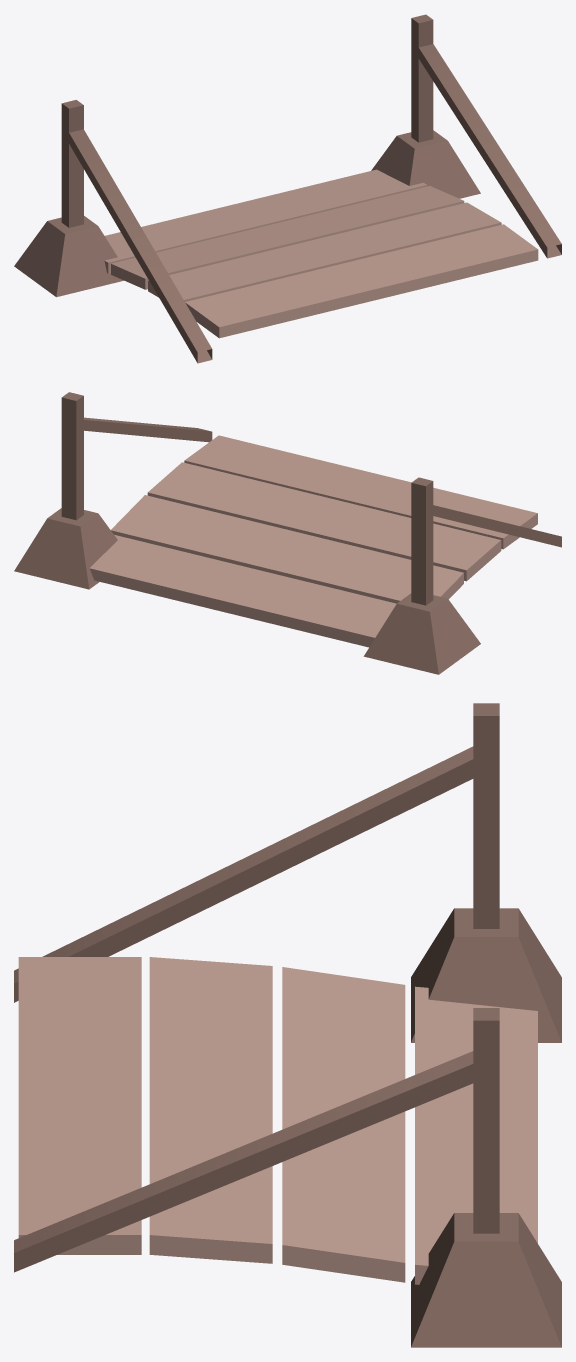
File: Puente-roto.fbx
The picture shows the model from 3 angles, top to bottom: view 1: azimuth 30°, elevation 25°; view 2: azimuth 150°, elevation 25°; view 3: azimuth 270°, elevation 25°; orthographic projection. The views are drawn at different scales.
Parts seen in each view (by area): view 1: pCube9, pCube15, pCube16; view 2: pCube9, pCube15, pCube16; view 3: pCube9, pCube16, pCube15.
Boxes of the visible parts, box(x1,y1,x2,y2) form: pCube9: box(104, 169, 538, 338); pCube15: box(14, 100, 212, 363); pCube16: box(371, 14, 561, 258); pCube9: box(89, 435, 537, 647); pCube15: box(363, 477, 561, 674); pCube16: box(14, 392, 212, 589); pCube9: box(18, 957, 537, 1284); pCube16: box(14, 1008, 561, 1347); pCube15: box(14, 703, 561, 1042).
Size of the model in its own units: 4.61 by 1.75 by 2.88.
